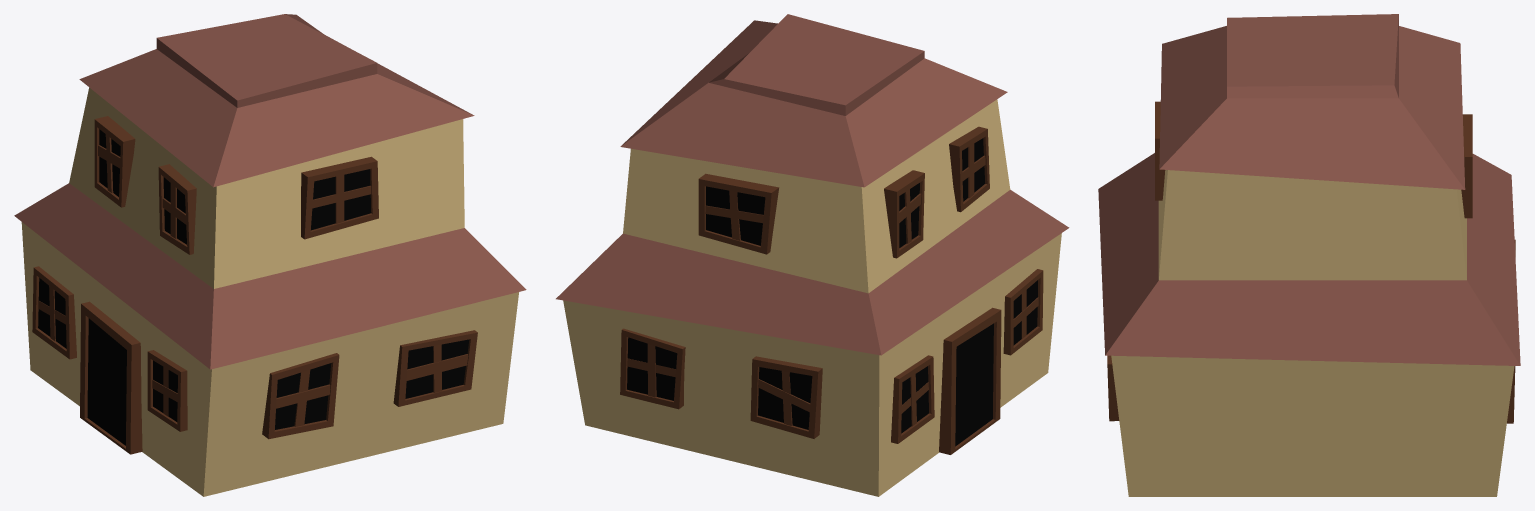
Rendered from ww_building2.fbx.
3 renders of one model, left to right at view 1: azimuth 30°, elevation 25°; view 2: azimuth 150°, elevation 25°; view 3: azimuth 270°, elevation 25°, orthographic. The views are drawn at different scales.
Visible parts, largest first — view 1: Cube; view 2: Cube; view 3: Cube.
Part boxes in pixels (x1,y1,x2,y2): Cube: (14,14,526,496); Cube: (556,14,1069,496); Cube: (1098,14,1520,496).
Size of the model in its own units: 497 by 498 by 516.
